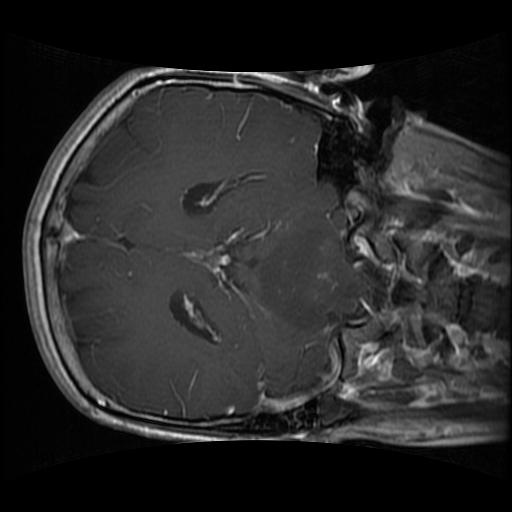glioma: (259, 216, 353, 331)
